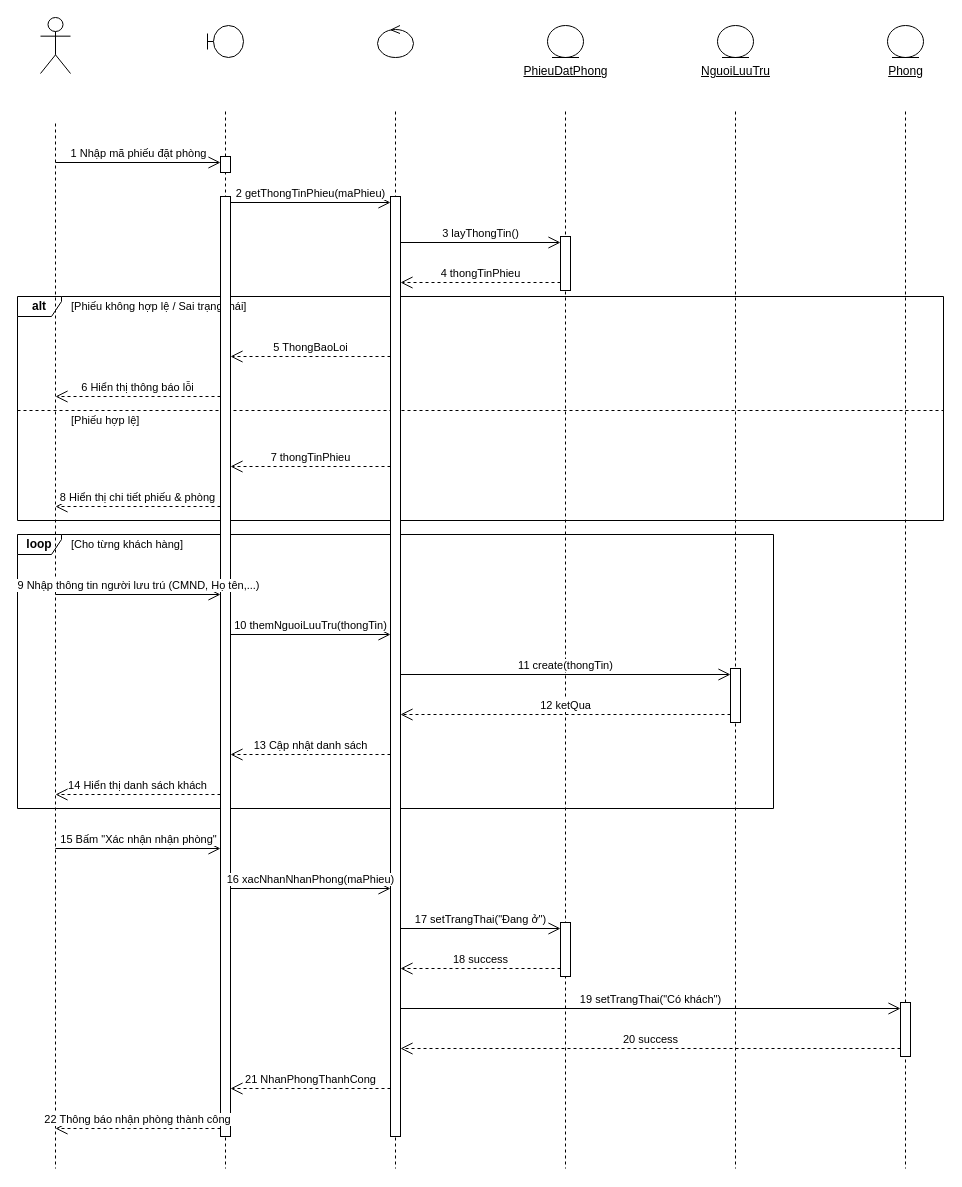
Image size: 962x1187. Some labels were removed from this diagram. The centre of each missing label's shape, as x and y in pixels:
"FrmNhanPhong" goes at point 225,41.
"NhanPhongService" goes at point 395,41.
"NV Lễ tân" goes at point 55,45.
